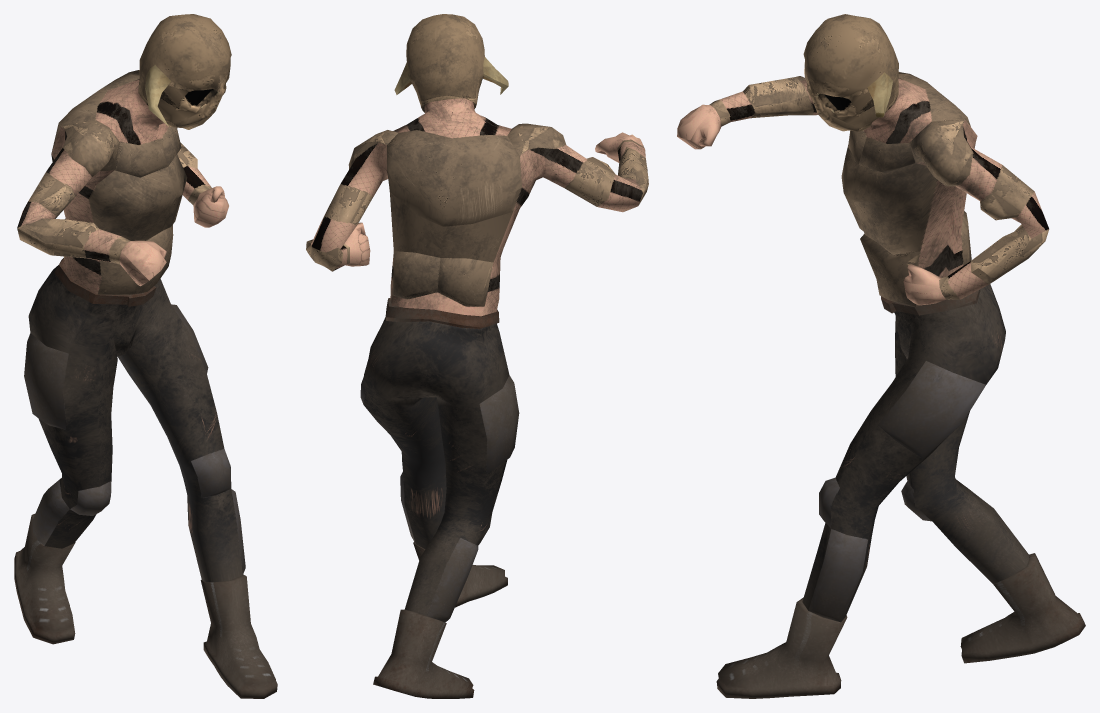
The model's file is Anim_ataque_d2_npc1.0019.obj.
3 renders of one model, left to right at view 1: azimuth 30°, elevation 25°; view 2: azimuth 150°, elevation 25°; view 3: azimuth 270°, elevation 25°, orthographic. The views are drawn at different scales.
Parts seen in each view (by area): view 1: NPC2; view 2: NPC2; view 3: NPC2.
Boxes of the visible parts, <box> form: NPC2: <box>14,14,277,698</box>; NPC2: <box>306,14,648,698</box>; NPC2: <box>677,14,1085,698</box>.
Bounding box in the file's own units: 3.86 × 9.07 × 4.98.
